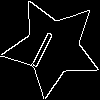I: (27, 22, 61, 69)
